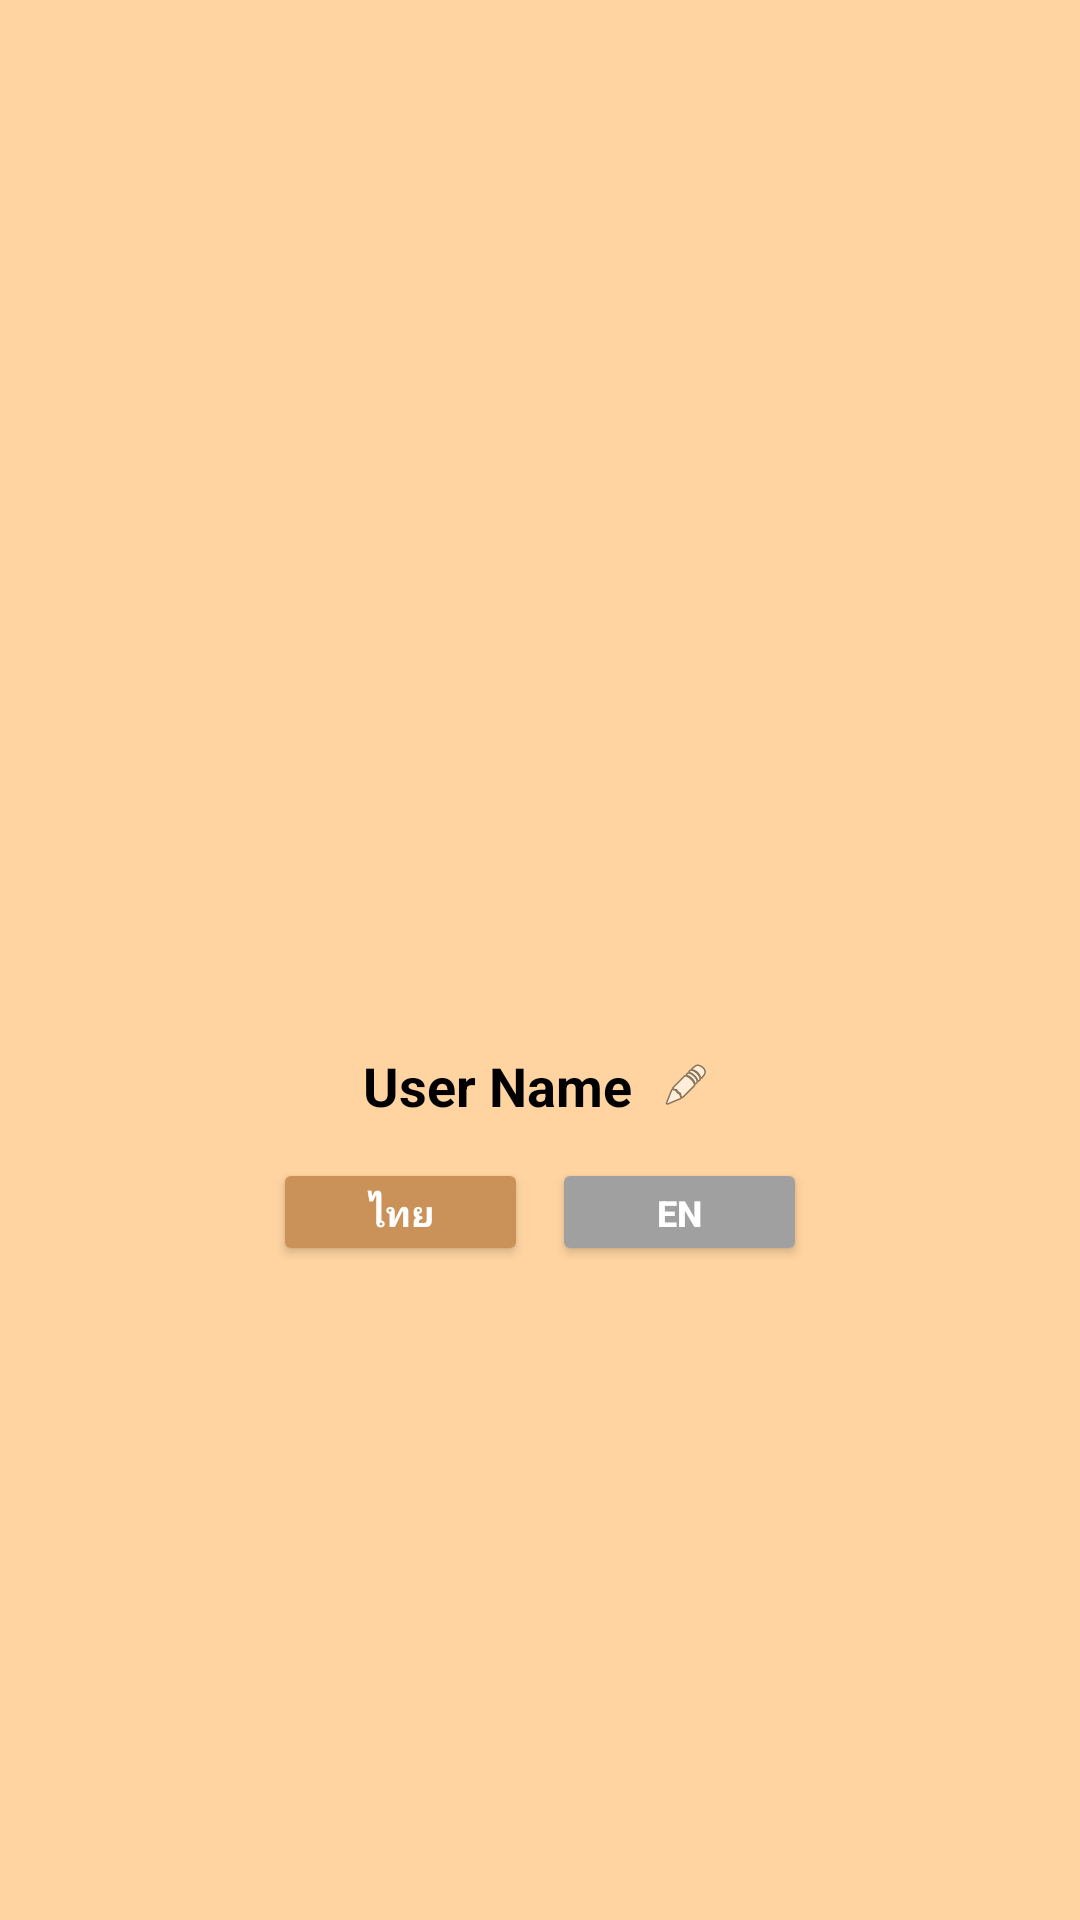

Named icons in this screenshot (1080px×1920px) and their centers, point (x, y):
edit: point (685, 1084)
